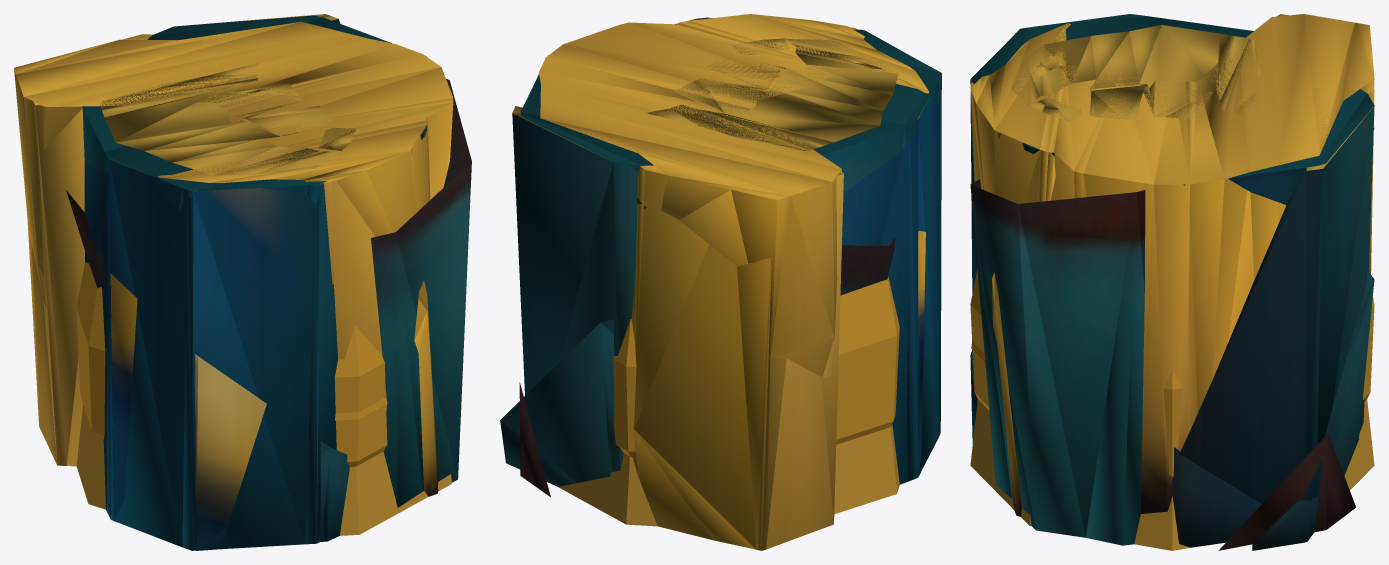
File: hand_journalist.fbx
3 views of the same model, side by side, from view 1: azimuth 30°, elevation 25°; view 2: azimuth 150°, elevation 25°; view 3: azimuth 270°, elevation 25° (orthographic).
Visible parts, largest first — view 1: Left_cuff, Right_palm, Left_palm, Right_forearm, Right_cuff, Left_finger0_tip, Left_forearm, Left_finger0_distal; view 2: Right_palm, Right_cuff, Left_cuff, Left_palm, Left_finger0_tip, Left_forearm, Left_finger0_distal, Right_forearm; view 3: Right_palm, Right_forearm, Left_cuff, Left_palm, Left_forearm, Right_cuff, Left_finger0_distal, Left_finger0_tip.
Boxes of the visible parts, x1=… form: Left_cuff: x1=84, y1=14, x2=340, y2=550; Right_palm: x1=14, y1=22, x2=453, y2=496; Left_palm: x1=100, y1=63, x2=355, y2=550; Right_forearm: x1=66, y1=78, x2=471, y2=507; Right_cuff: x1=27, y1=34, x2=412, y2=466; Left_finger0_tip: x1=76, y1=262, x2=387, y2=466; Left_forearm: x1=82, y1=15, x2=426, y2=212; Left_finger0_distal: x1=76, y1=404, x2=451, y2=535; Right_palm: x1=538, y1=14, x2=929, y2=377; Right_cuff: x1=519, y1=14, x2=858, y2=550; Left_cuff: x1=512, y1=29, x2=941, y2=484; Left_palm: x1=500, y1=37, x2=925, y2=486; Left_finger0_tip: x1=613, y1=276, x2=899, y2=456; Left_forearm: x1=520, y1=17, x2=941, y2=193; Left_finger0_distal: x1=558, y1=424, x2=899, y2=526; Right_forearm: x1=636, y1=197, x2=894, y2=295; Right_palm: x1=970, y1=14, x2=1374, y2=516; Right_forearm: x1=970, y1=127, x2=1374, y2=545; Left_cuff: x1=970, y1=14, x2=1374, y2=547; Left_palm: x1=970, y1=25, x2=1374, y2=550; Left_forearm: x1=970, y1=14, x2=1374, y2=204; Right_cuff: x1=970, y1=14, x2=1374, y2=550; Left_finger0_distal: x1=970, y1=177, x2=1374, y2=550; Left_finger0_tip: x1=970, y1=268, x2=1374, y2=477.
Size of the model in its own units: 1 by 1 by 1.
